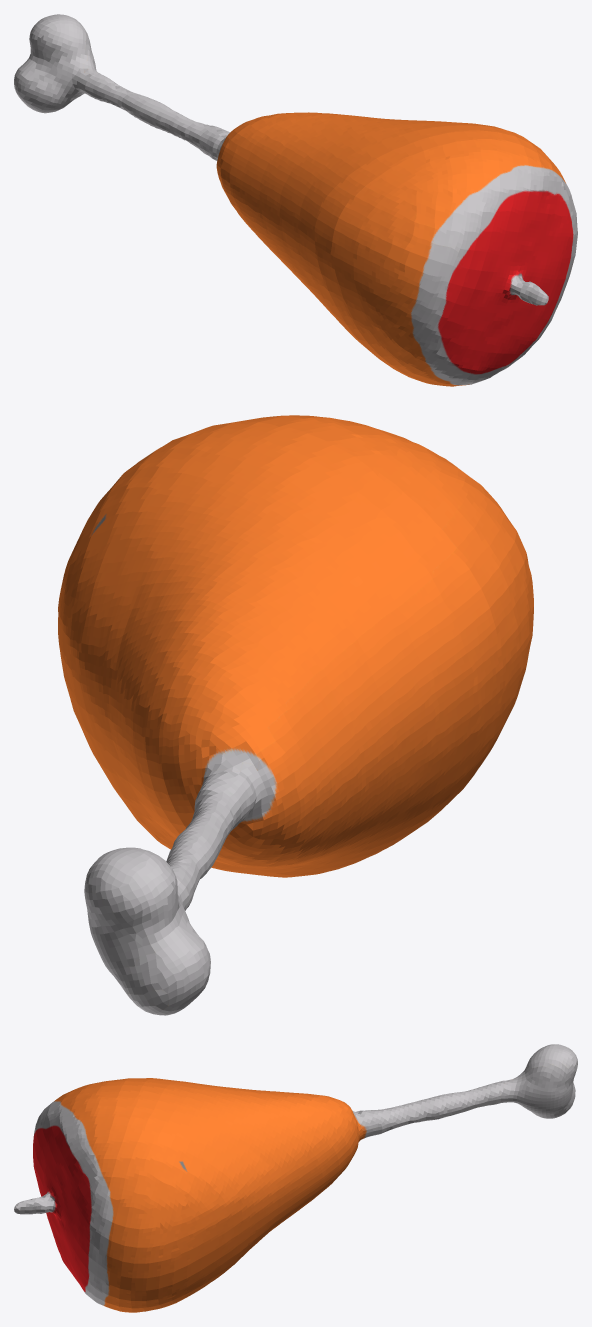
The model's file is Placeholder_Meat_Static_HMH_170921_01.OBJ.fbx.
3 views of the same model, one above another, from view 1: azimuth 30°, elevation 25°; view 2: azimuth 150°, elevation 25°; view 3: azimuth 270°, elevation 25° (orthographic). The views are drawn at different scales.
Visible parts, largest first — view 1: root; view 2: root; view 3: root.
Boxes of the visible parts, left/top/right/bottom form: root: left=14, top=14, right=577, bottom=386; root: left=58, top=415, right=533, bottom=1015; root: left=14, top=1044, right=577, bottom=1312.
Size of the model in its own units: 0.7649 by 0.566 by 1.38.
1 material, 1 textured.
